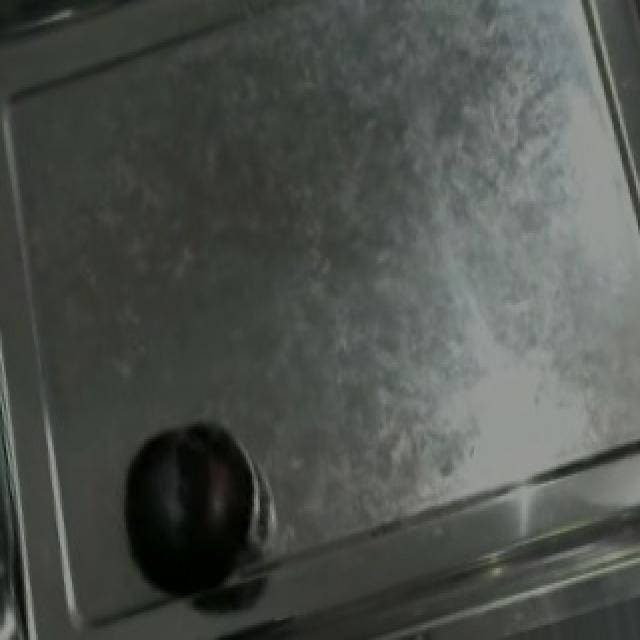Fruit: (108, 414, 268, 613)
